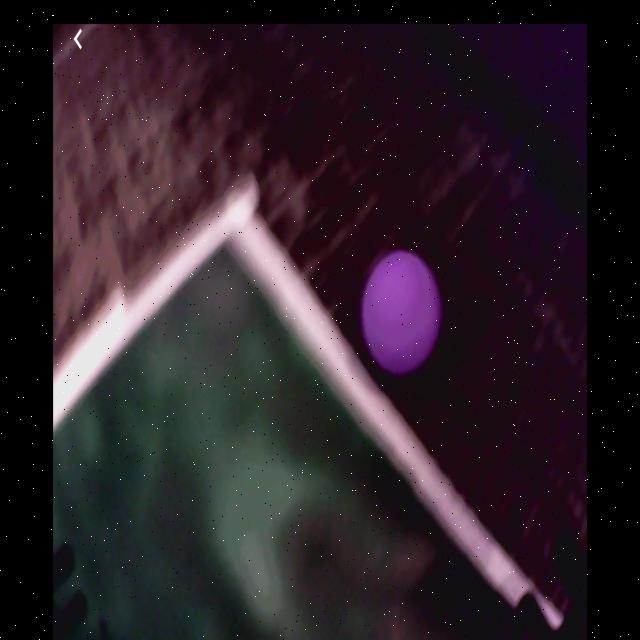ball: (363, 253, 440, 371)
